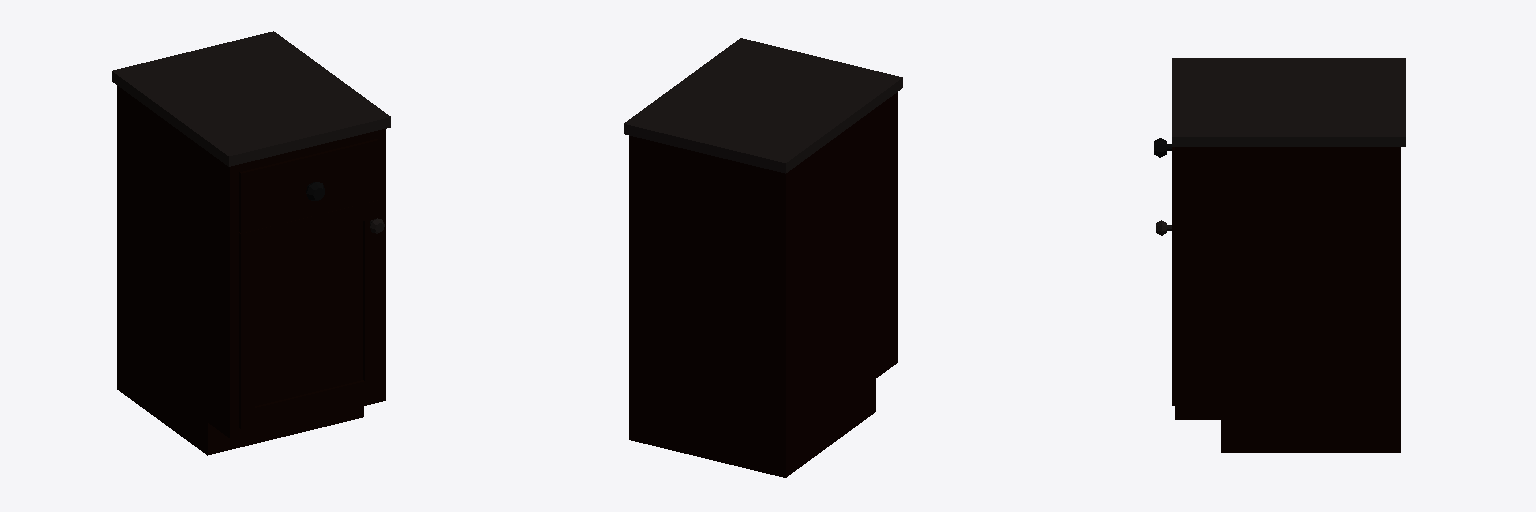
The model's file is SingleDoorBaseCabinetWDrawer1.obj.
The picture shows the model from 3 angles: view 1: azimuth 30°, elevation 25°; view 2: azimuth 150°, elevation 25°; view 3: azimuth 270°, elevation 25°; orthographic projection.
Visible parts, largest first — view 1: SingleDoorbaseCabinetWDrawer1_Cube.002, Door1SingleDoorbaseCabinetWDrawer1_Cube.005, Drawer1SingleDoorbaseCabinetWDrawer1_Cube.001; view 2: SingleDoorbaseCabinetWDrawer1_Cube.002; view 3: SingleDoorbaseCabinetWDrawer1_Cube.002, Door1SingleDoorbaseCabinetWDrawer1_Cube.005.
Boxes of the visible parts, x1,y1,x2,y2 form: SingleDoorbaseCabinetWDrawer1_Cube.002: [112, 31, 390, 455]; Door1SingleDoorbaseCabinetWDrawer1_Cube.005: [239, 200, 384, 428]; Drawer1SingleDoorbaseCabinetWDrawer1_Cube.001: [239, 139, 378, 233]; SingleDoorbaseCabinetWDrawer1_Cube.002: [624, 38, 902, 477]; SingleDoorbaseCabinetWDrawer1_Cube.002: [1172, 58, 1405, 452]; Door1SingleDoorbaseCabinetWDrawer1_Cube.005: [1156, 211, 1174, 405].
Size of the model in its own units: 0.4863 by 0.9081 by 0.6558.